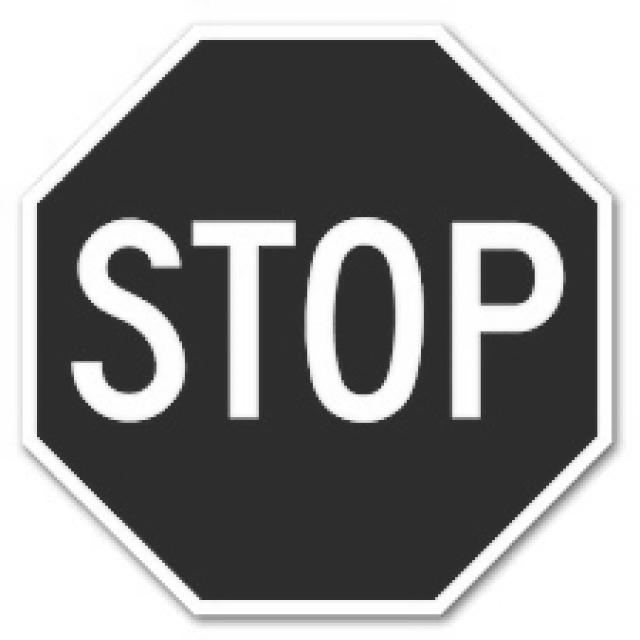Stop-sign: (0, 0, 625, 635)
